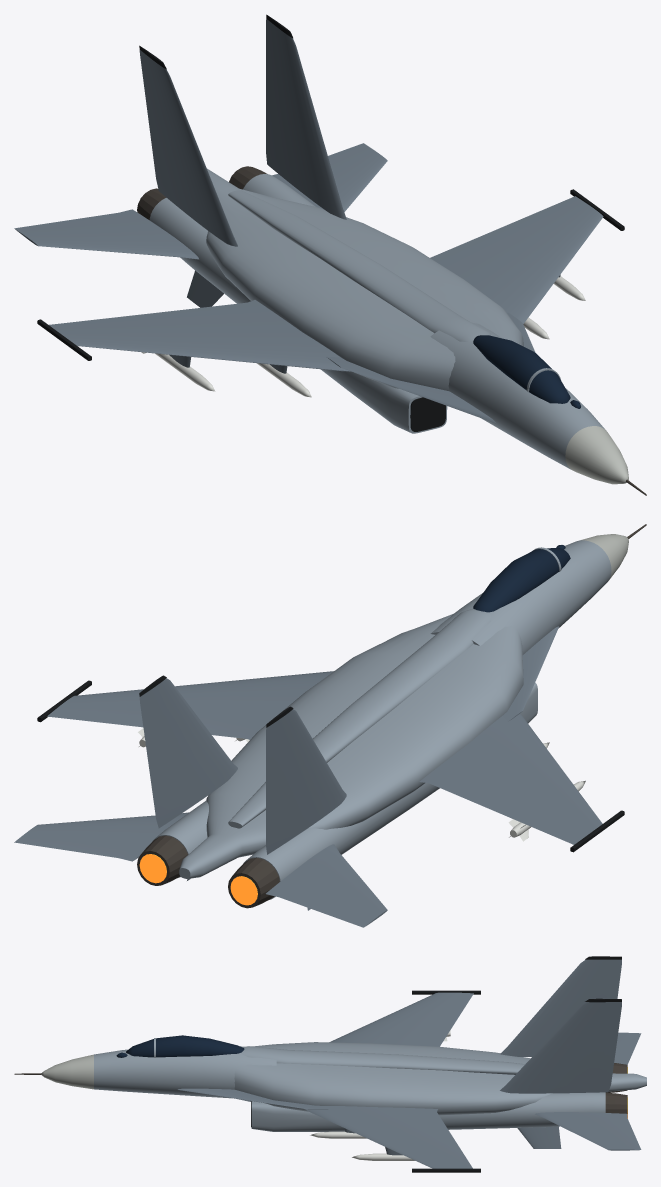
3 renders of one model, top to bottom at view 1: azimuth 30°, elevation 25°; view 2: azimuth 150°, elevation 25°; view 3: azimuth 270°, elevation 25°, orthographic. The views are drawn at different scales.
Visible parts, largest first — view 1: su35; view 2: su35; view 3: su35.
Part boxes in pixels (x1,y1,x2,y2): su35: (14,14,646,495); su35: (14,524,646,927); su35: (14,956,646,1172).
Bounding box in the file's own units: 15.36 × 6.02 × 22.9.
